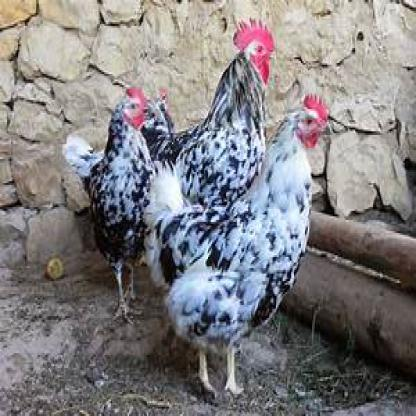chicken: (152, 93, 336, 396), (154, 16, 279, 198), (61, 87, 153, 329)
